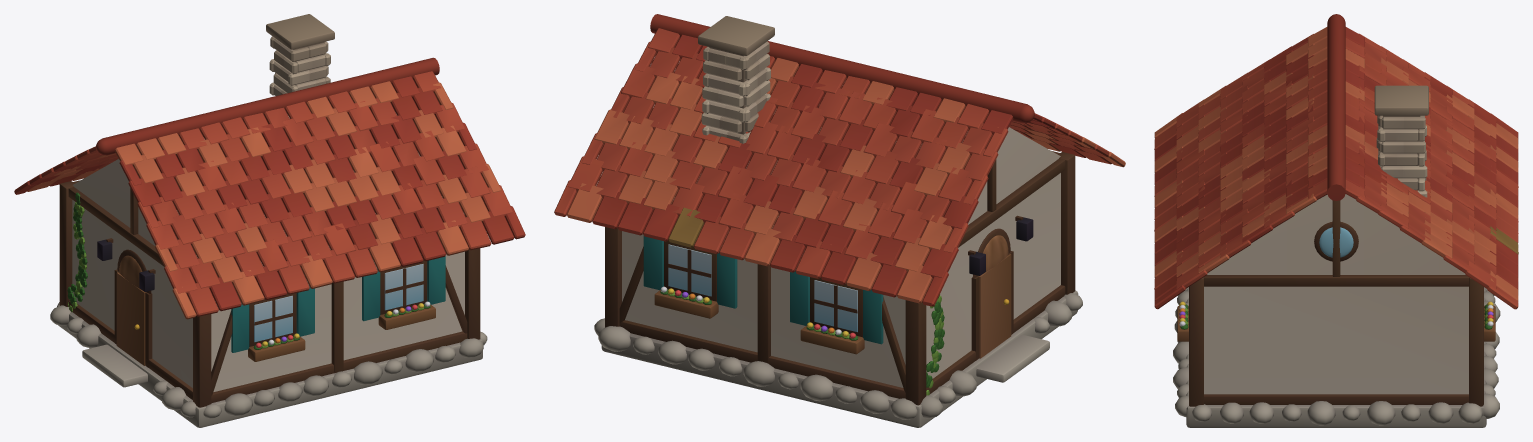
The model's file is cottage.glb.
3 views of the same model, side by side, from view 1: azimuth 30°, elevation 25°; view 2: azimuth 150°, elevation 25°; view 3: azimuth 270°, elevation 25° (orthographic). The views are drawn at different scales.
Parts seen in each view (by area): view 1: Cottage; view 2: Cottage; view 3: Cottage.
Part boxes in pixels (x1,y1,x2,y2): Cottage: (14, 14, 525, 427); Cottage: (554, 14, 1125, 427); Cottage: (1154, 14, 1518, 427).
Size of the model in its own units: 8.92 by 6.89 by 7.81.
